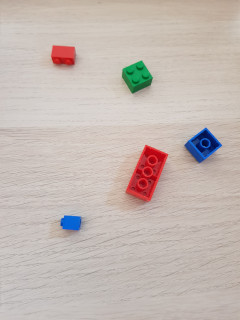1x1 blue: (58, 214, 83, 232)
1x2 red: (51, 44, 78, 68)
2x2 blue: (185, 128, 221, 164)
2x2 green: (122, 60, 153, 95)
2x4 red: (124, 144, 168, 203)
